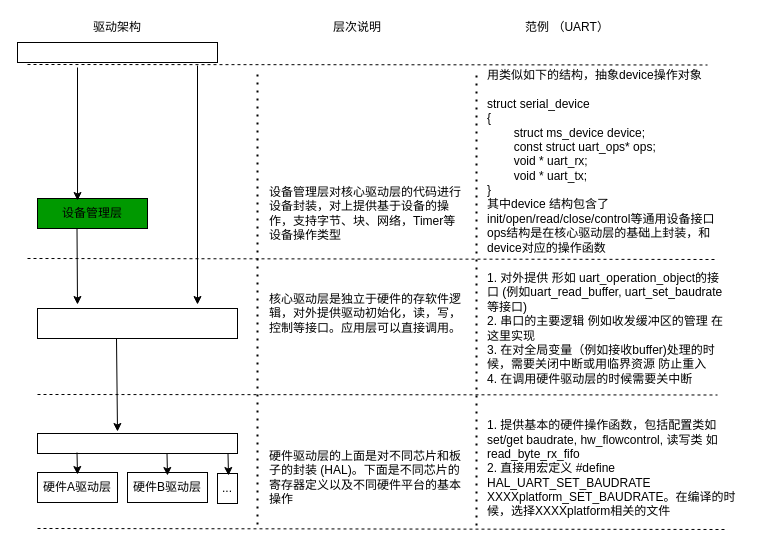
The diagram is 763 pixels wide and 548 high, and some of its shapes have lost their labels. The centre of each missing label's shape, as x and y in pixels:
平台封装层: point (137, 443)
核心驱动层: point (137, 323)
驱动使用者: point (117, 52)
